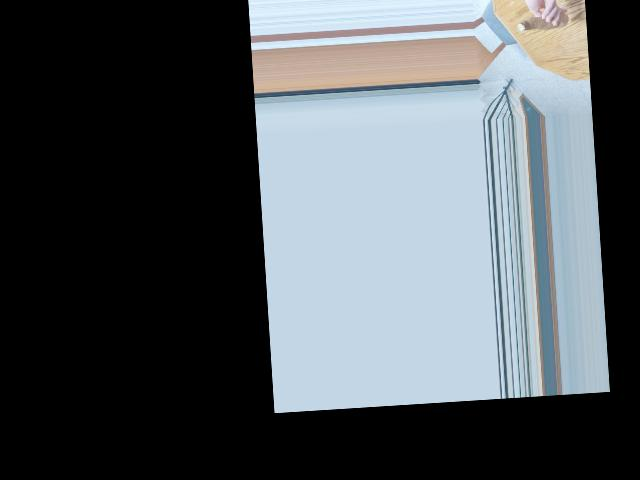sweet_potato: (515, 17, 560, 30)
